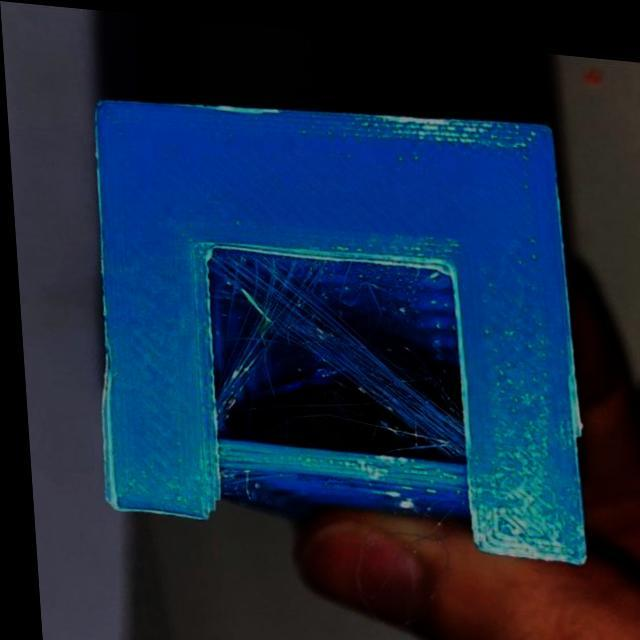stringing: (212, 250, 456, 443), (210, 251, 321, 410)
